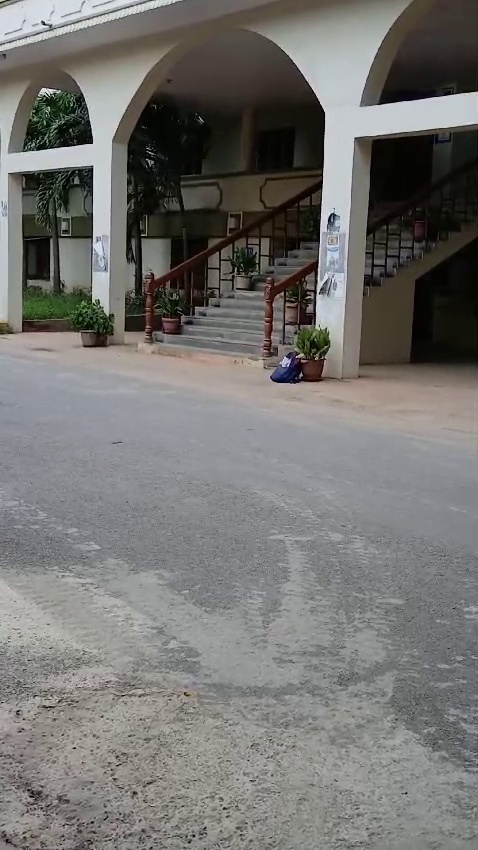bag: (269, 342, 306, 380)
